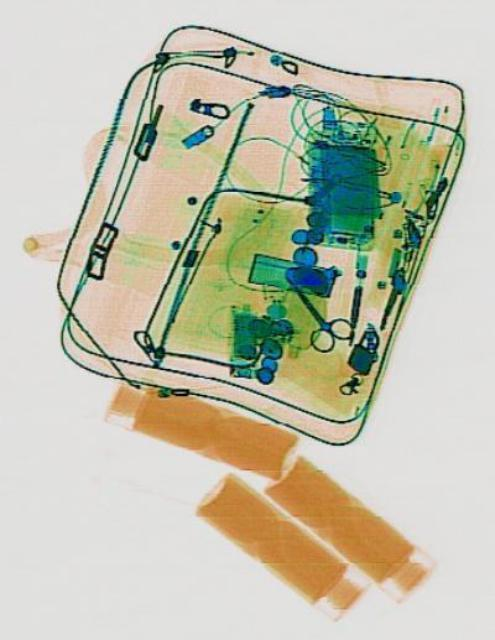Scissors: (269, 258, 355, 362)
